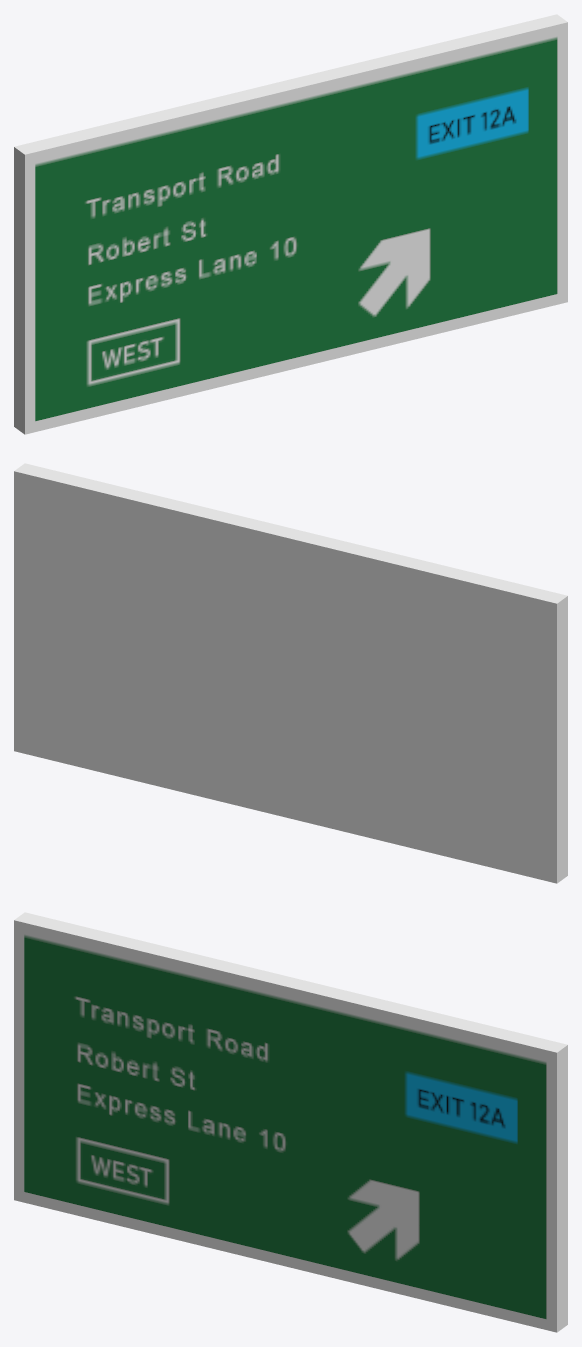
Rendered from road_signboard_02.fbx.
3 views of the same model, one above another, from view 1: azimuth 30°, elevation 25°; view 2: azimuth 150°, elevation 25°; view 3: azimuth 330°, elevation 25° (orthographic).
Parts seen in each view (by area): view 1: road_signboard_02; view 2: road_signboard_02; view 3: road_signboard_02.
Boxes of the visible parts, x1,y1,x2,y2 form: road_signboard_02: [14, 14, 567, 434]; road_signboard_02: [14, 463, 567, 883]; road_signboard_02: [14, 912, 567, 1332].
Size of the model in its own units: 693 by 341 by 24.07.
